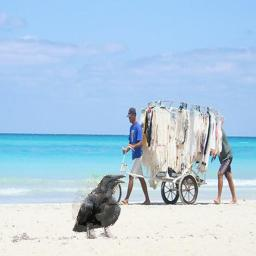Crow: (72, 174, 126, 239)
